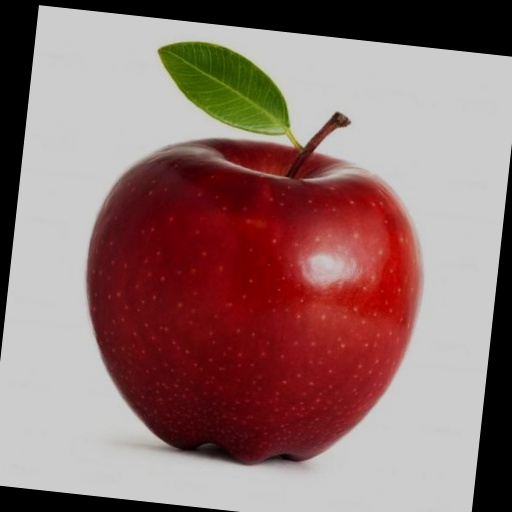fruit: (87, 43, 421, 463)
